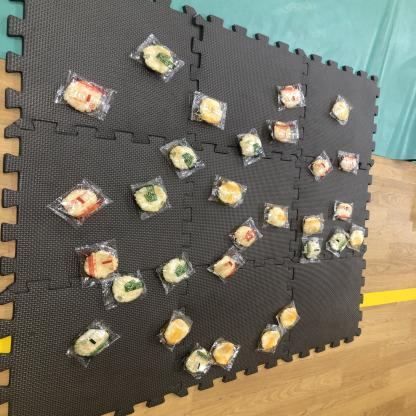green_setoshio: (132, 39, 186, 82), (70, 321, 118, 362), (129, 178, 176, 219), (103, 272, 150, 310), (158, 138, 204, 176), (156, 252, 195, 290), (233, 127, 268, 167), (182, 345, 214, 378), (294, 235, 327, 265), (327, 228, 350, 255)
red_setoshio: (57, 78, 116, 120), (52, 180, 108, 222), (76, 243, 119, 282), (204, 245, 242, 278), (272, 81, 310, 110), (266, 117, 304, 146), (229, 218, 263, 247), (310, 152, 334, 182), (328, 198, 356, 222), (340, 151, 362, 177)
yellow_setoshio: (187, 92, 230, 128), (155, 310, 194, 347), (325, 92, 355, 126), (212, 177, 246, 207), (261, 200, 292, 231), (273, 301, 303, 330), (213, 338, 240, 369), (256, 325, 284, 353), (300, 212, 326, 237), (349, 223, 367, 249)
